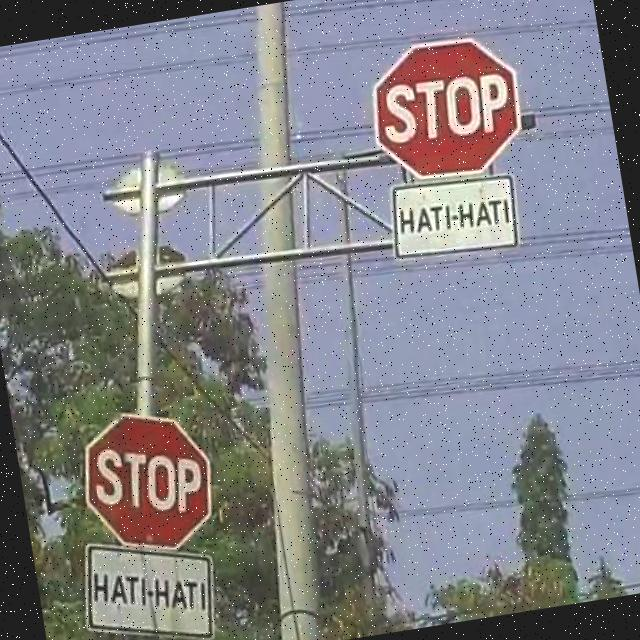Stop: (370, 32, 526, 186), (74, 403, 222, 565)
